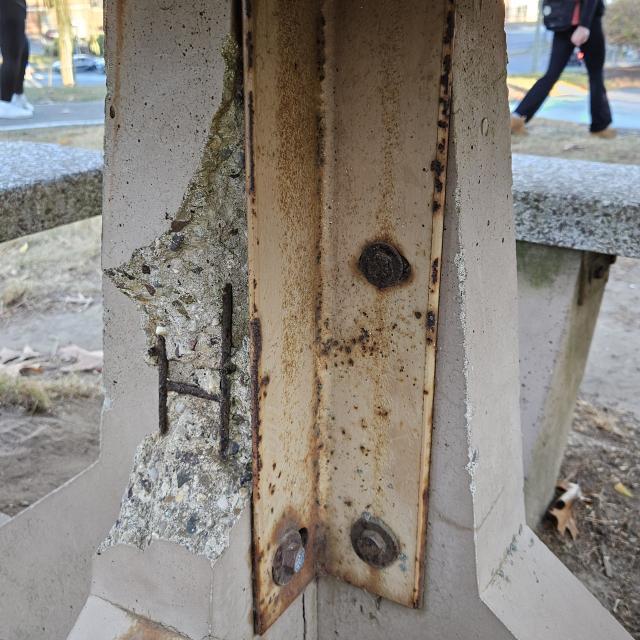Crevice Corrosion: (252, 513, 322, 633), (344, 517, 398, 570), (581, 254, 621, 306), (365, 246, 409, 289)
Uniform Corrosion: (243, 1, 460, 601)
